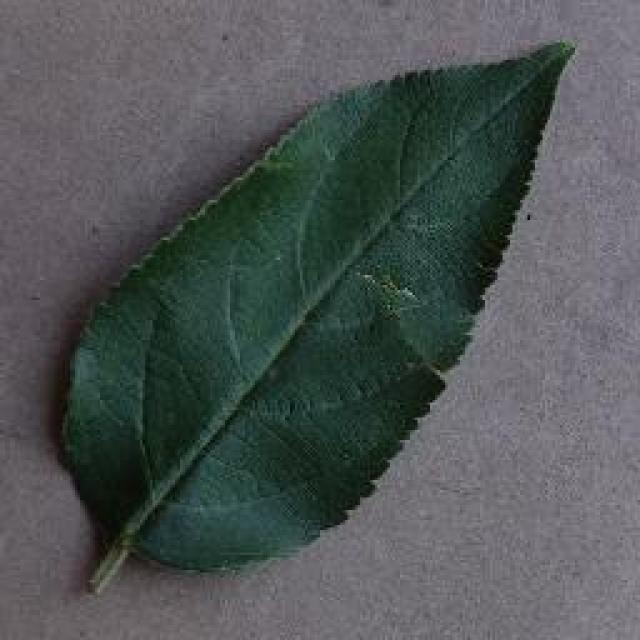apple healthy: (55, 35, 577, 595)
